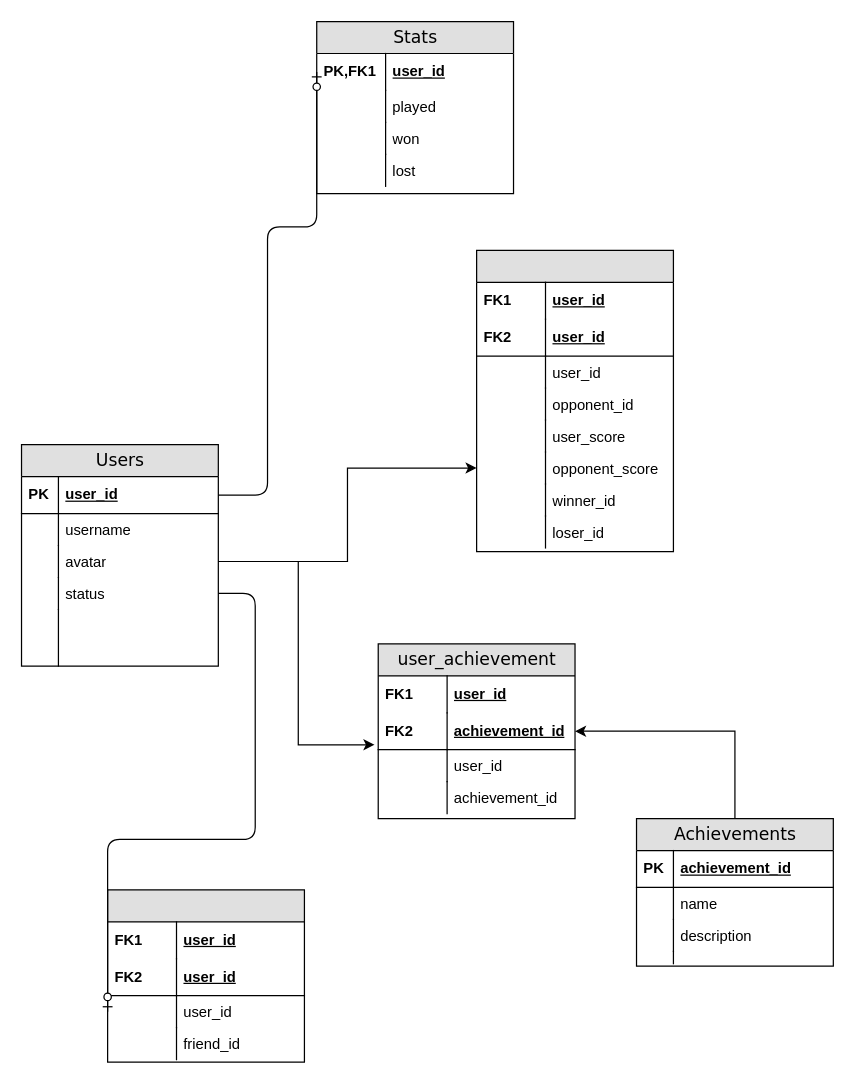
Some shapes in this 855 by 1085 pixel diagram are drawn without their labels. The shapes that lost their labels are listed below. From the top down, each one's box as (x1, y1, x2, y2) in pixels, then its label:
(475, 249, 673, 552): Matches
(106, 889, 304, 1062): Friends
